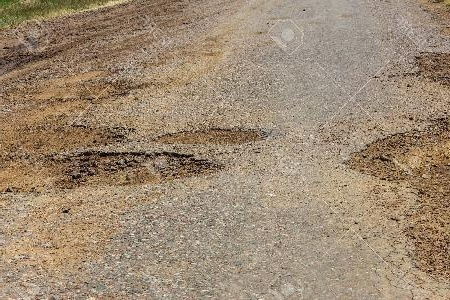pothole: (340, 115, 449, 193), (48, 146, 222, 193), (153, 125, 270, 147), (410, 49, 450, 89)
